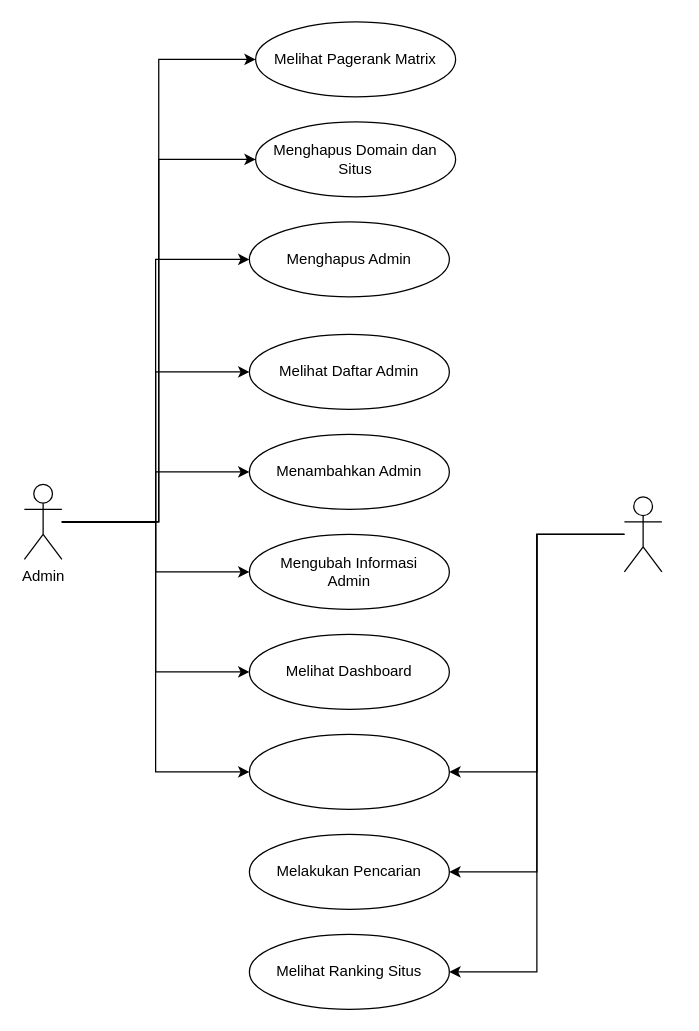
Image size: 699x1031. Some labels were removed from this diagram. The centre of each missing label's shape, as x and y in pixels:
Melihat Peta Situs: (348,771)
Pengguna: (642,534)
